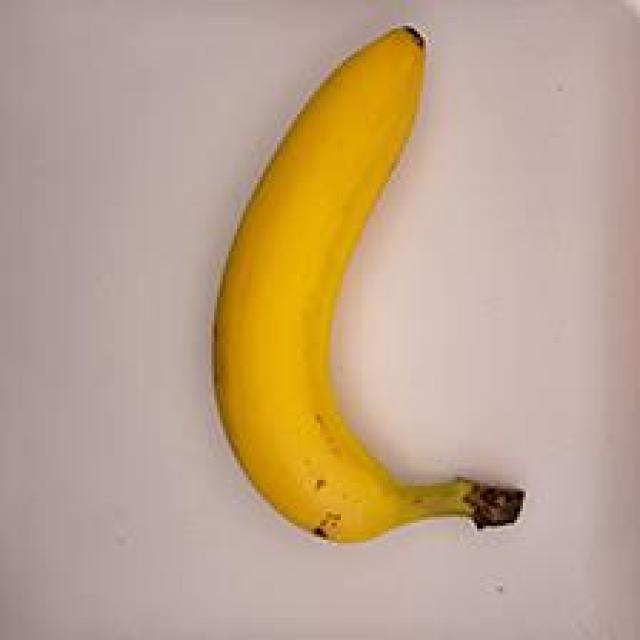Ripe: (189, 11, 536, 562)
